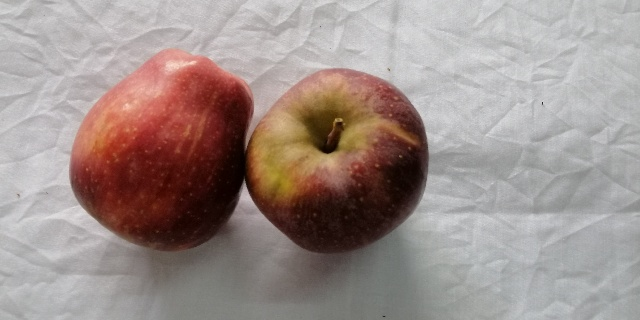apple_kashmir: (68, 46, 252, 253), (248, 68, 430, 255)
